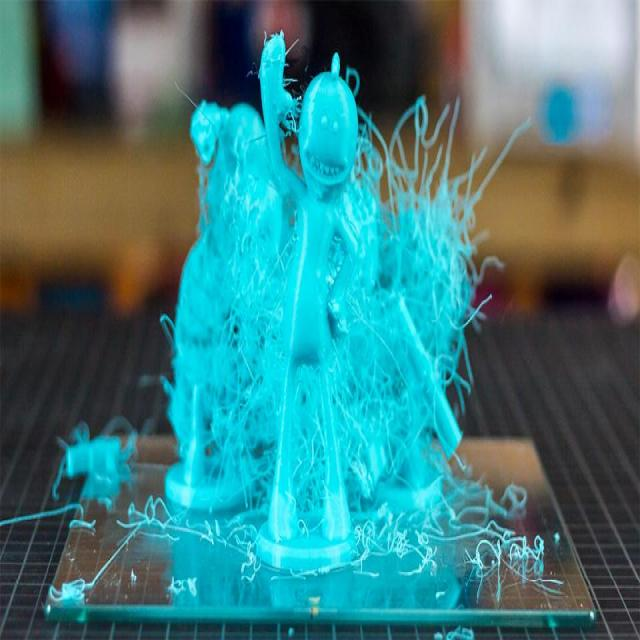Spaghetti: (323, 91, 527, 579), (168, 112, 325, 576), (56, 406, 129, 504), (46, 559, 88, 613)
